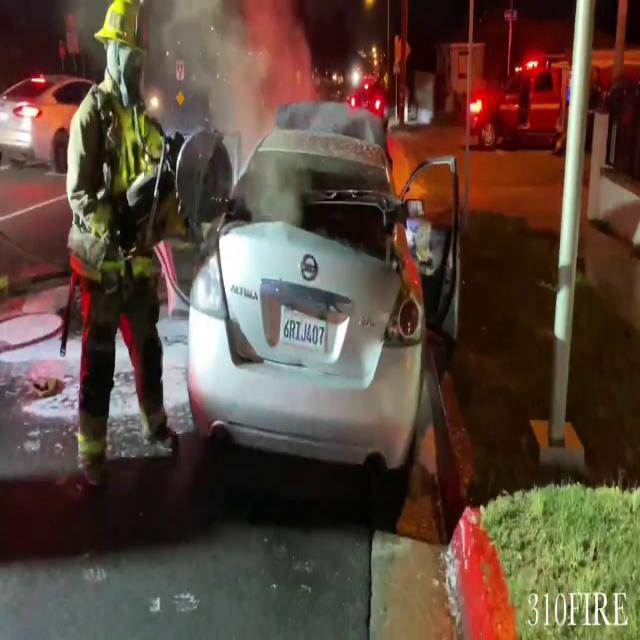Smoke: (150, 0, 316, 265)
